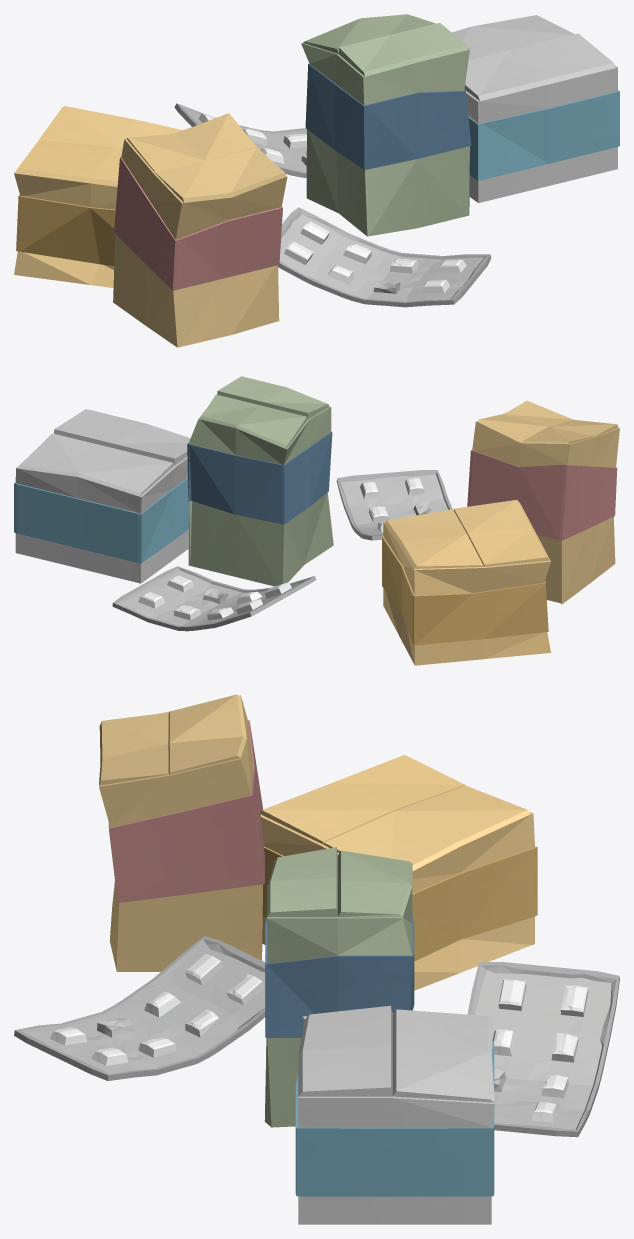
The model's file is medication_cluster_1.obj.
3 views of the same model, one above another, from view 1: azimuth 30°, elevation 25°; view 2: azimuth 150°, elevation 25°; view 3: azimuth 270°, elevation 25° (orthographic). The views are drawn at different scales.
Parts seen in each view (by area): view 1: box3_Material, box2_Material, box1_Material, box4_Material, med1_Material, med2_Material; view 2: box2_Material, box1_Material, box4_Material, box3_Material, med2_Material, med1_Material; view 3: box1_Material, box3_Material, box4_Material, box2_Material, med2_Material, med1_Material.
Boxes of the visible parts, <box> form: box3_Material: <box>113,113,287,347</box>; box2_Material: <box>301,14,471,236</box>; box1_Material: <box>452,15,619,202</box>; box4_Material: <box>14,106,182,287</box>; med1_Material: <box>278,207,491,307</box>; med2_Material: <box>174,103,306,177</box>; box2_Material: <box>187,376,333,586</box>; box1_Material: <box>14,409,190,583</box>; box4_Material: <box>382,500,550,665</box>; box3_Material: <box>467,400,619,604</box>; med2_Material: <box>112,566,316,631</box>; med1_Material: <box>336,470,452,540</box>; box1_Material: <box>295,1005,494,1224</box>; box3_Material: <box>99,694,264,971</box>; box4_Material: <box>260,755,537,990</box>; box2_Material: <box>264,847,414,1127</box>; med2_Material: <box>467,962,619,1137</box>; med1_Material: <box>14,936,265,1080</box>.
Size of the model in its own units: 0.2355 by 0.071 by 0.1764.
